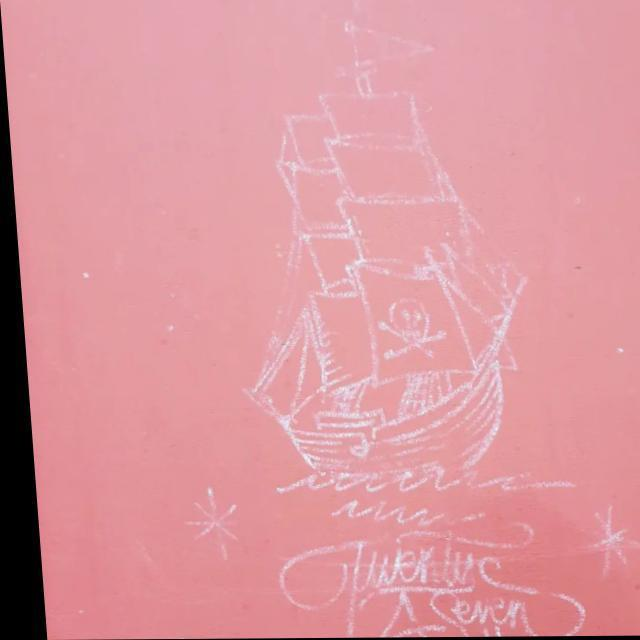-: (133, 0, 640, 639)
